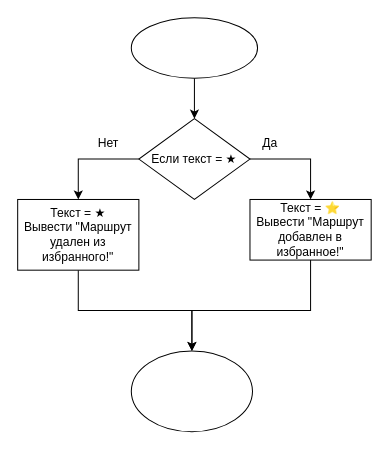
Image size: 389x449. Some labels were removed from this diagram. The shapes that lost their labels are listed below. From the top down, each one's centre as x and y in pixels, then its label:
At (x=194, y=47): "Начало обработки".
At (x=191, y=391): "Конец".
